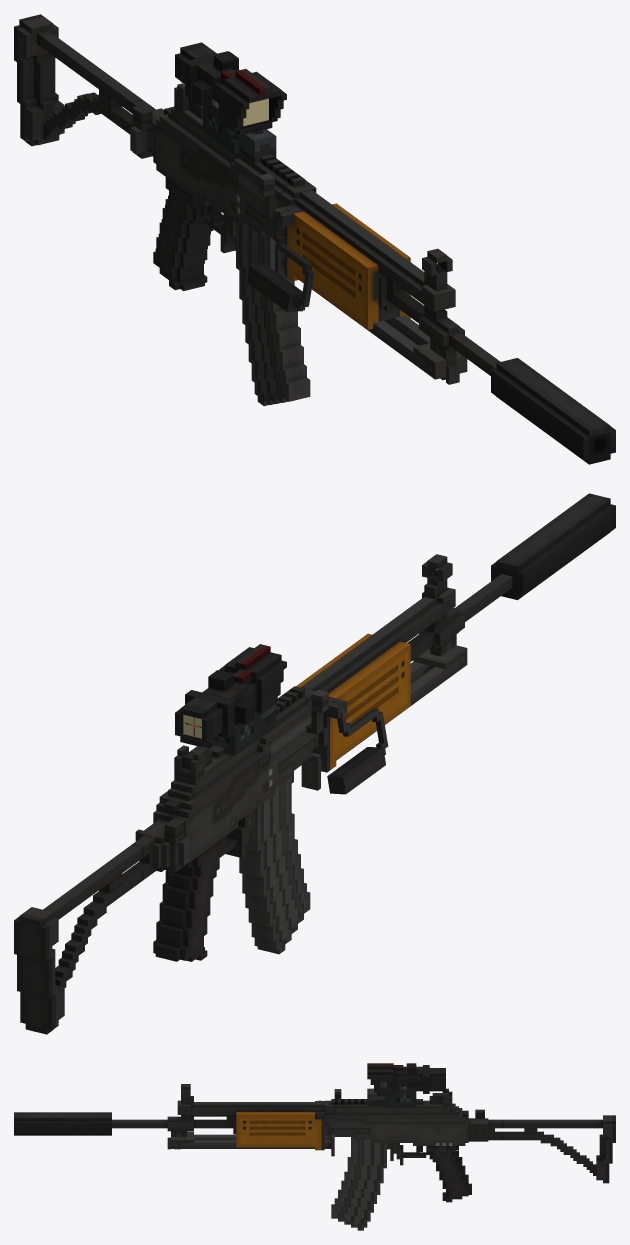
File: RD_GALIL.glb
3 renders of one model, top to bottom at view 1: azimuth 30°, elevation 25°; view 2: azimuth 150°, elevation 25°; view 3: azimuth 270°, elevation 25°, orthographic. The views are drawn at different scales.
Parts seen in each view (by area): view 1: GALIL, GALIL_CLIP, SCOPE_ACOG, SILENCER_6X6, GALIL_GRIP, SCOPE_EOTECH, GALIL_SCOPE, GALIL_DIPOD_LEG1, GALIL_DIPOD_P2, GALIL_DIPOD_LEG2, GALIL_BOLT; view 2: GALIL, GALIL_CLIP, SCOPE_ACOG, SILENCER_6X6, GALIL_GRIP, GALIL_SCOPE, GALIL_DIPOD_LEG1, SCOPE_EOTECH, GALIL_DIPOD_P2; view 3: GALIL, GALIL_CLIP, SILENCER_6X6, SCOPE_ACOG, SCOPE_EOTECH, GALIL_DIPOD_LEG2, GALIL_SCOPE, GALIL_DIPOD_LEG1, GALIL_DIPOD_P2.
Boxes of the visible parts, box(x1,y1,x2,y2) form: GALIL: box(14, 14, 500, 375); GALIL_CLIP: box(236, 223, 310, 406); SCOPE_ACOG: box(175, 42, 286, 163); SILENCER_6X6: box(491, 358, 615, 464); GALIL_GRIP: box(247, 210, 314, 311); SCOPE_EOTECH: box(203, 99, 276, 157); GALIL_SCOPE: box(174, 83, 452, 291); GALIL_DIPOD_LEG1: box(275, 245, 425, 366); GALIL_DIPOD_P2: box(413, 343, 467, 379); GALIL_DIPOD_LEG2: box(384, 315, 430, 345); GALIL_BOLT: box(258, 173, 277, 218); GALIL: box(14, 574, 512, 1034); GALIL_CLIP: box(239, 777, 310, 954); SCOPE_ACOG: box(175, 644, 286, 747); SILENCER_6X6: box(491, 493, 615, 600); GALIL_GRIP: box(327, 701, 388, 794); GALIL_SCOPE: box(174, 554, 452, 779); GALIL_DIPOD_LEG1: box(301, 660, 457, 790); SCOPE_EOTECH: box(203, 703, 276, 755); GALIL_DIPOD_P2: box(413, 645, 467, 680); GALIL: box(112, 1099, 615, 1202); GALIL_CLIP: box(331, 1137, 390, 1230); SILENCER_6X6: box(14, 1112, 111, 1135); SCOPE_ACOG: box(367, 1063, 445, 1105); SCOPE_EOTECH: box(367, 1086, 416, 1107); GALIL_DIPOD_LEG2: box(181, 1134, 334, 1156); GALIL_SCOPE: box(181, 1084, 452, 1105); GALIL_DIPOD_LEG1: box(194, 1134, 334, 1140); GALIL_DIPOD_P2: box(171, 1131, 193, 1148).
Size of the model in its own units: 0.1302 by 0.5412 by 1.81.
Materials: 8 (8 with a texture image).
